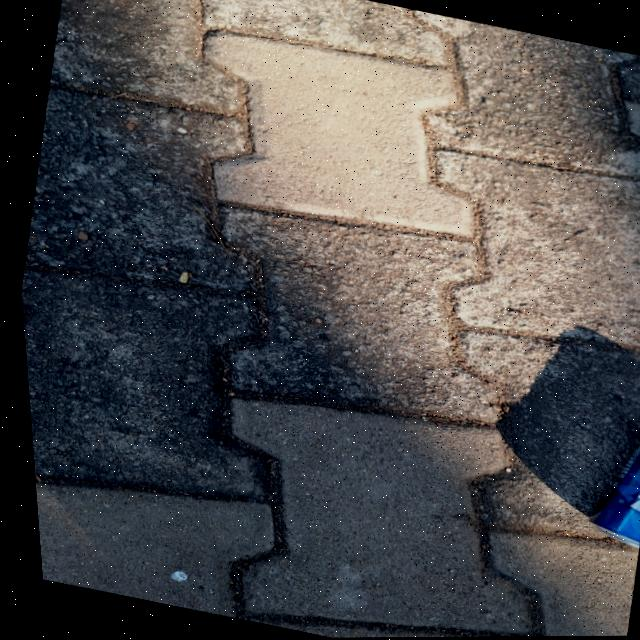Thums Up: (568, 402, 640, 558)
